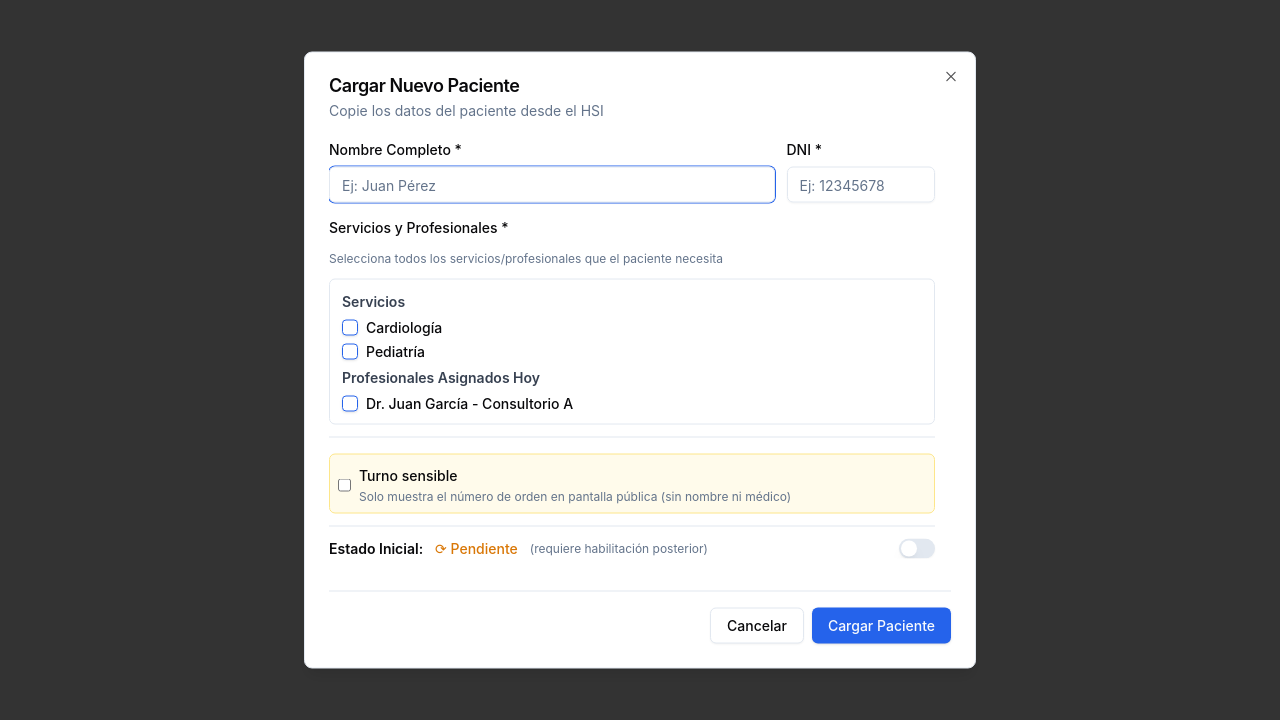
Test: AddPatientDialog › Selection Counter › should show plural when multiple items selected
Click the checkbox named "Cardiología" next to "Cardiología".
click(350, 328)  # box [342, 320, 358, 336]
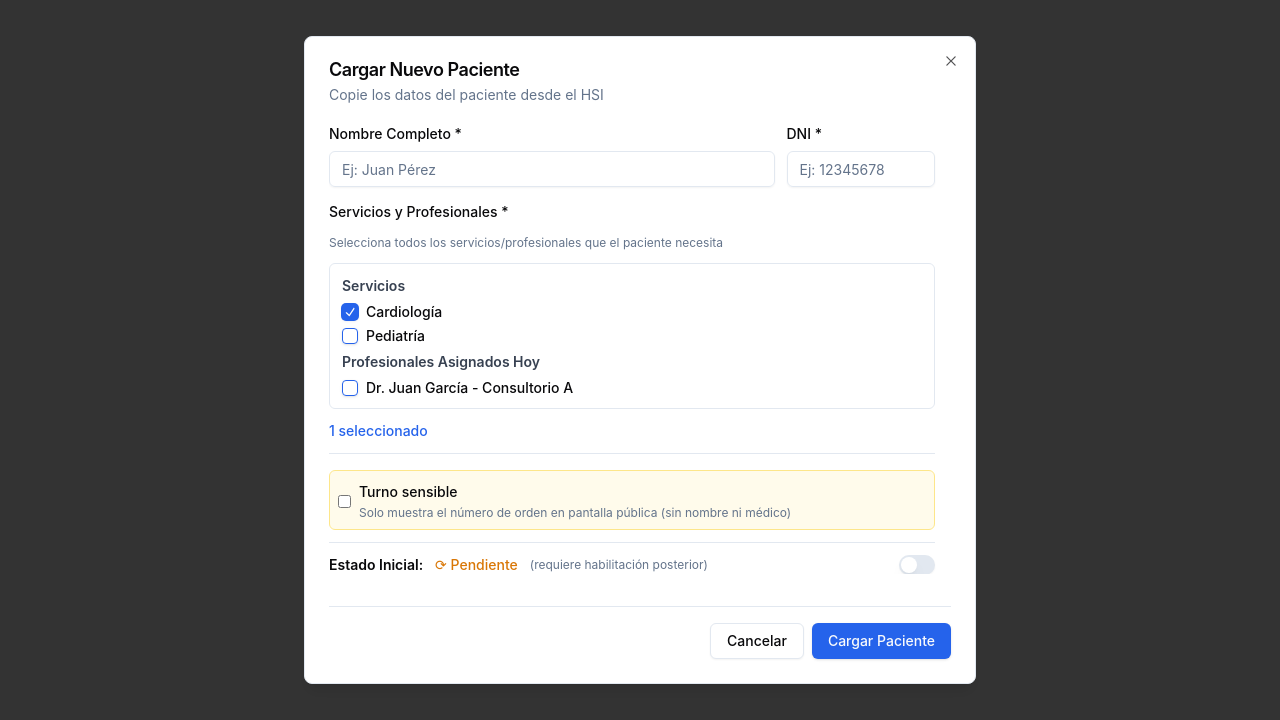
Click the checkbox named "Pediatría" next to "Pediatría".
click(350, 336)  # box [342, 328, 358, 344]
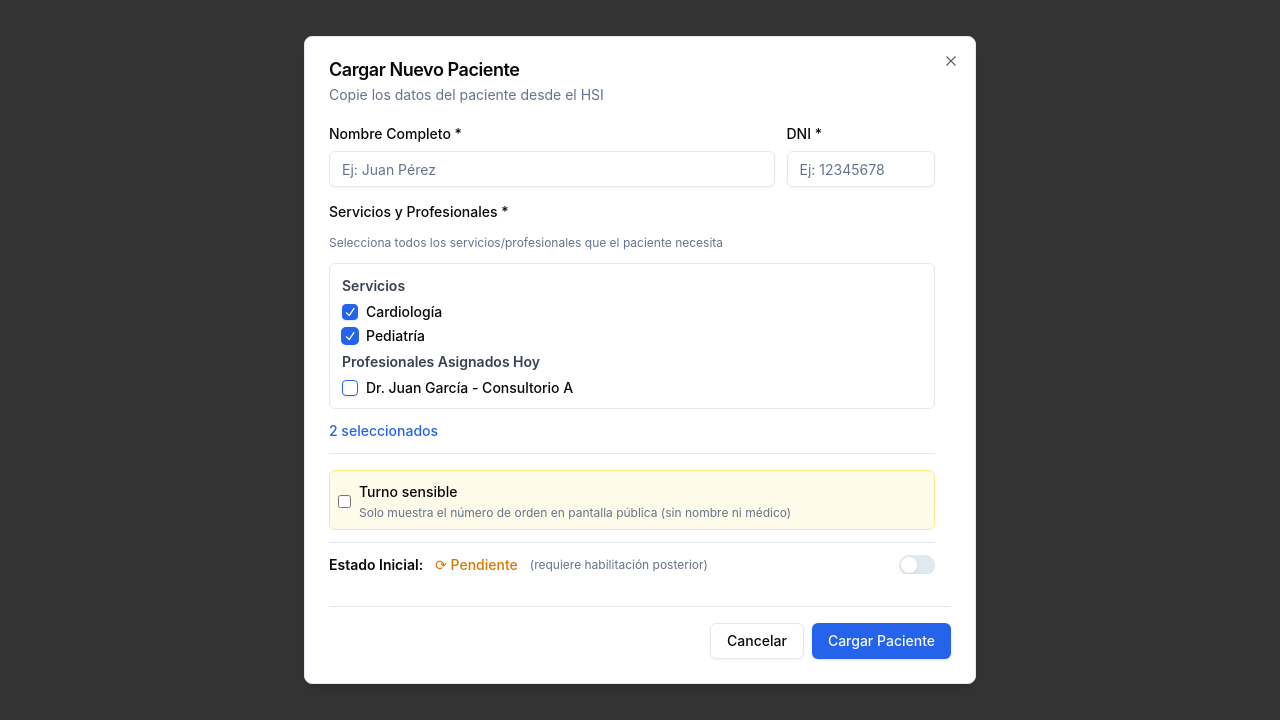
expect the text "2 seleccionados" is shown: met, box [329, 422, 438, 439]
